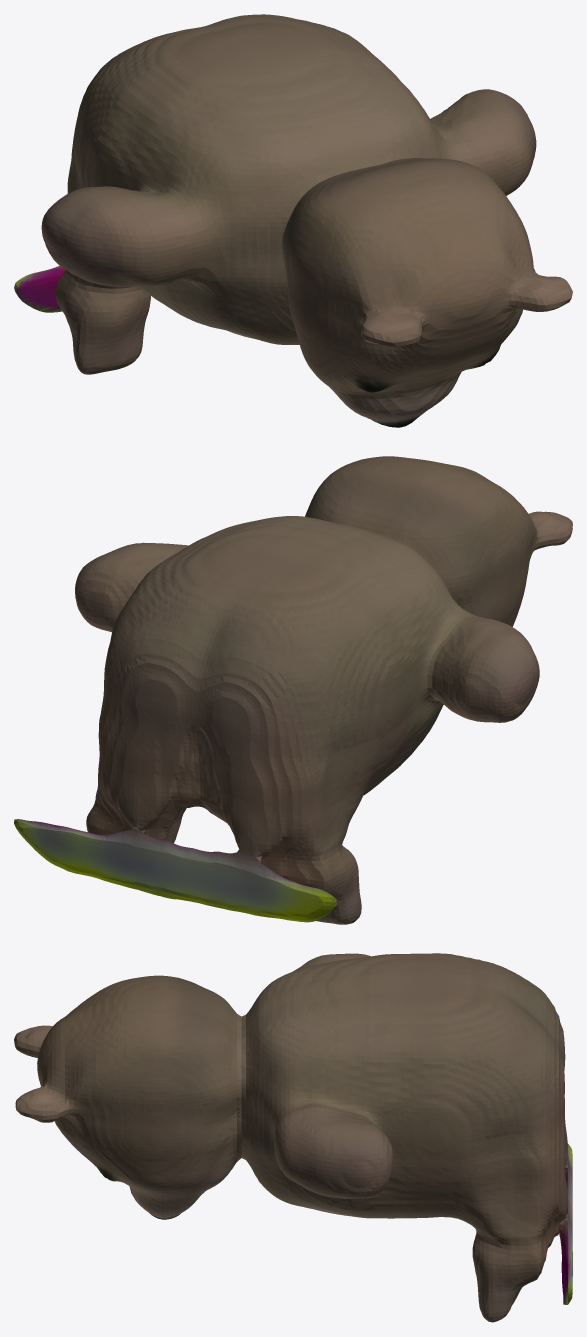
File: a_bear_snowboard.glb
3 views of the same model, one above another, from view 1: azimuth 30°, elevation 25°; view 2: azimuth 150°, elevation 25°; view 3: azimuth 270°, elevation 25° (orthographic). The views are drawn at different scales.
Visible parts, largest first — view 1: 0.ply; view 2: 0.ply; view 3: 0.ply.
Part boxes in pixels (x1=…): 0.ply: x1=14, y1=14, x2=572, y2=427; 0.ply: x1=14, y1=456, x2=572, y2=924; 0.ply: x1=14, y1=953, x2=572, y2=1322.
Size of the model in its own units: 1.69 by 1.13 by 1.96.
